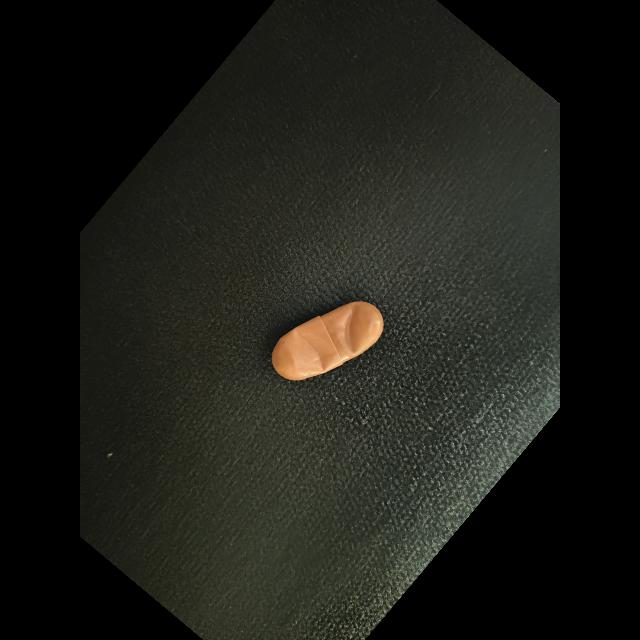Defective Capsule: (288, 326, 338, 378), (338, 302, 362, 355)
